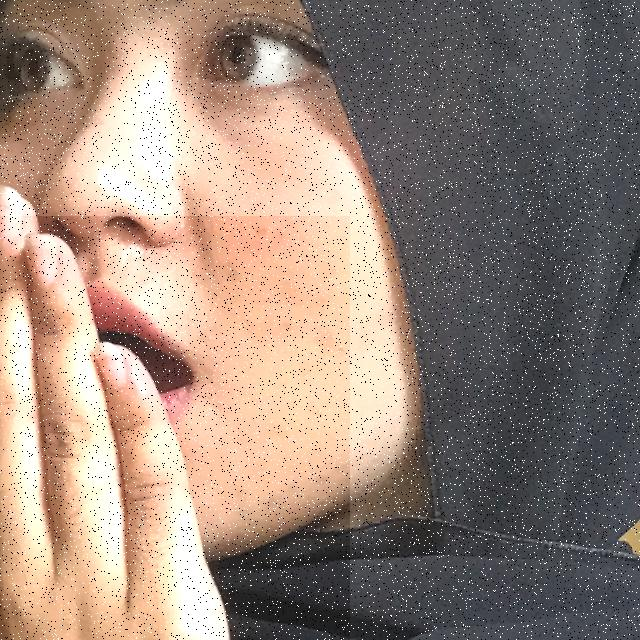ngantuk: (0, 216, 350, 640)
